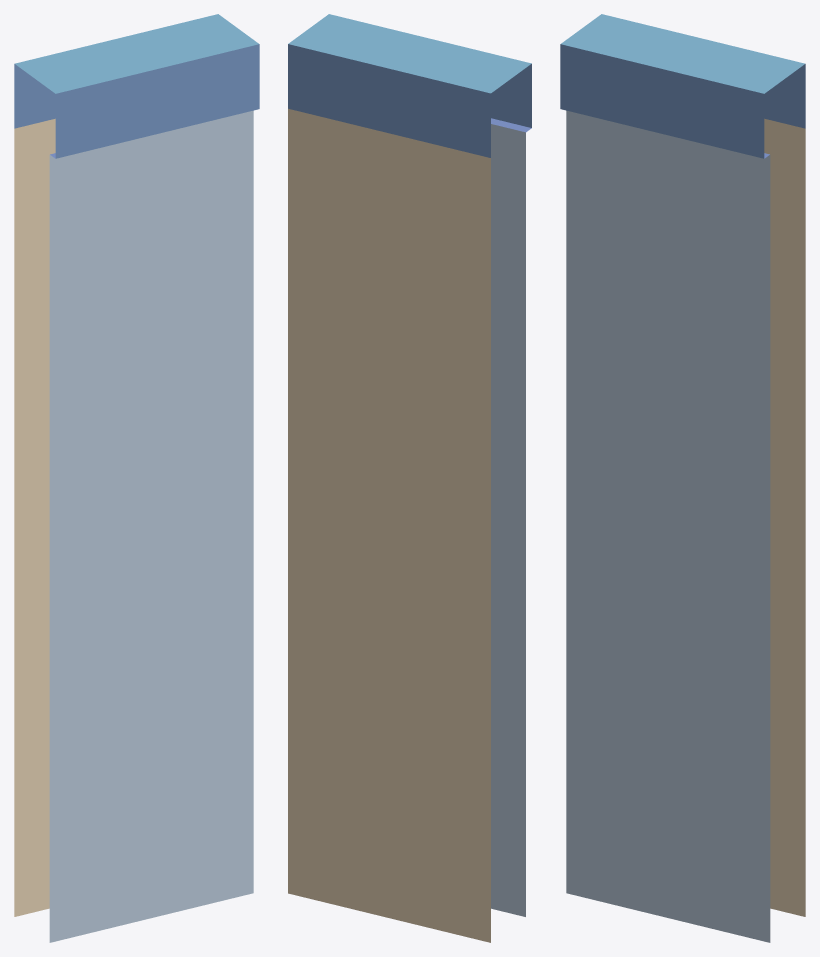
The model's file is wall_outside_L.fbx.
3 renders of one model, left to right at view 1: azimuth 30°, elevation 25°; view 2: azimuth 150°, elevation 25°; view 3: azimuth 330°, elevation 25°, orthographic.
Visible parts, largest first — view 1: wall_l; view 2: wall_l; view 3: wall_l.
Boxes of the visible parts, box(x1,y1,x2,y2) form: wall_l: box(14, 14, 259, 942); wall_l: box(288, 14, 531, 942); wall_l: box(560, 14, 805, 942).
Bounding box in the file's own units: 100 × 400 × 35.
